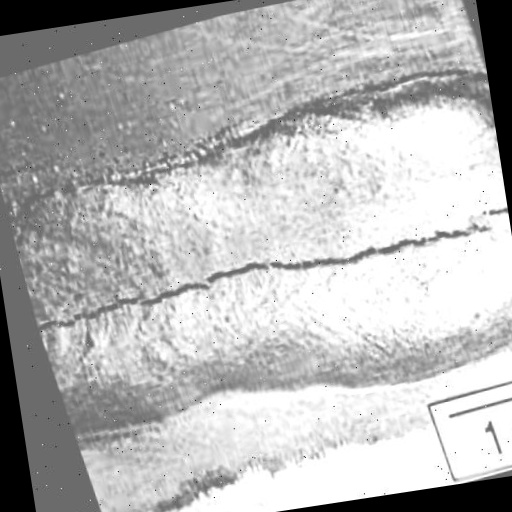crack: (22, 179, 512, 361)
